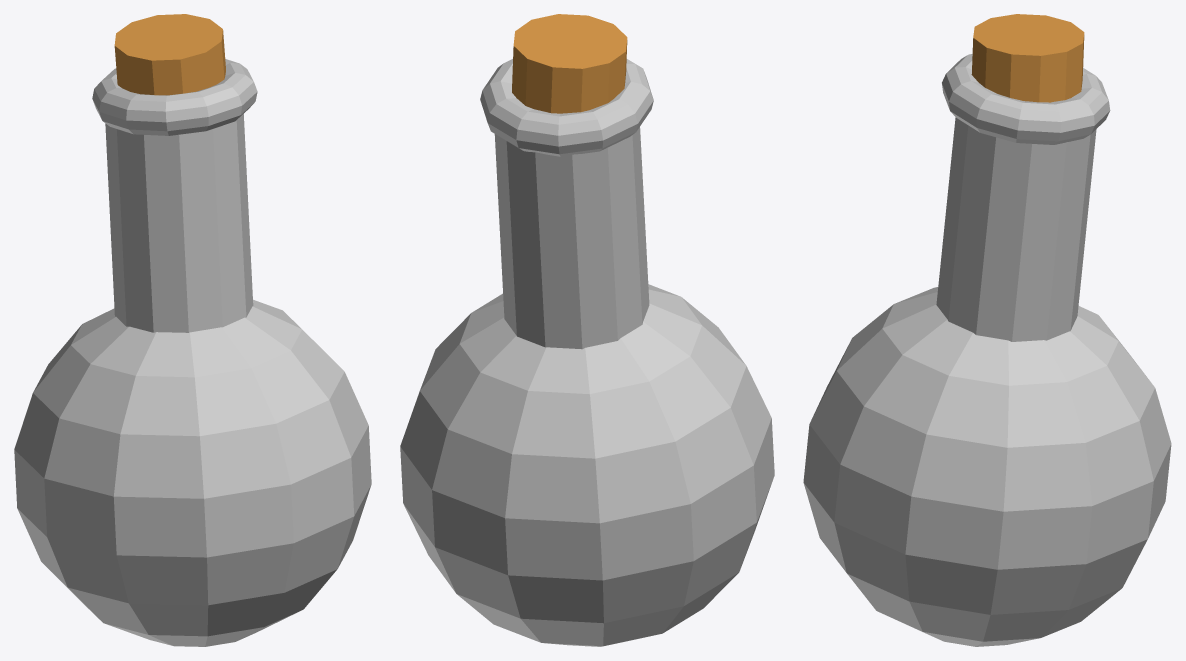
3 renders of one model, left to right at view 1: azimuth 30°, elevation 25°; view 2: azimuth 150°, elevation 25°; view 3: azimuth 270°, elevation 25°, orthographic. The views are drawn at different scales.
Visible parts, largest first — view 1: mesh_1835596300, mesh_1611186748, mesh_253512945, mesh_307446706; view 2: mesh_1835596300, mesh_1611186748, mesh_253512945, mesh_307446706; view 3: mesh_1835596300, mesh_1611186748, mesh_253512945, mesh_307446706.
Boxes of the visible parts, left/top/right/bottom form: mesh_1835596300: left=14, top=299, right=371, bottom=646; mesh_1611186748: left=105, top=114, right=253, bottom=332; mesh_253512945: left=114, top=14, right=225, bottom=95; mesh_307446706: left=92, top=59, right=257, bottom=135; mesh_1835596300: left=400, top=284, right=774, bottom=646; mesh_1611186748: left=494, top=127, right=649, bottom=349; mesh_253512945: left=512, top=14, right=627, bottom=113; mesh_307446706: left=480, top=59, right=653, bottom=156; mesh_1835596300: left=803, top=287, right=1171, bottom=646; mesh_1611186748: left=936, top=117, right=1096, bottom=341; mesh_253512945: left=971, top=14, right=1084, bottom=102; mesh_307446706: left=942, top=54, right=1110, bottom=144.
Bounding box in the file's own units: 12.77 × 23.1 × 12.92.
